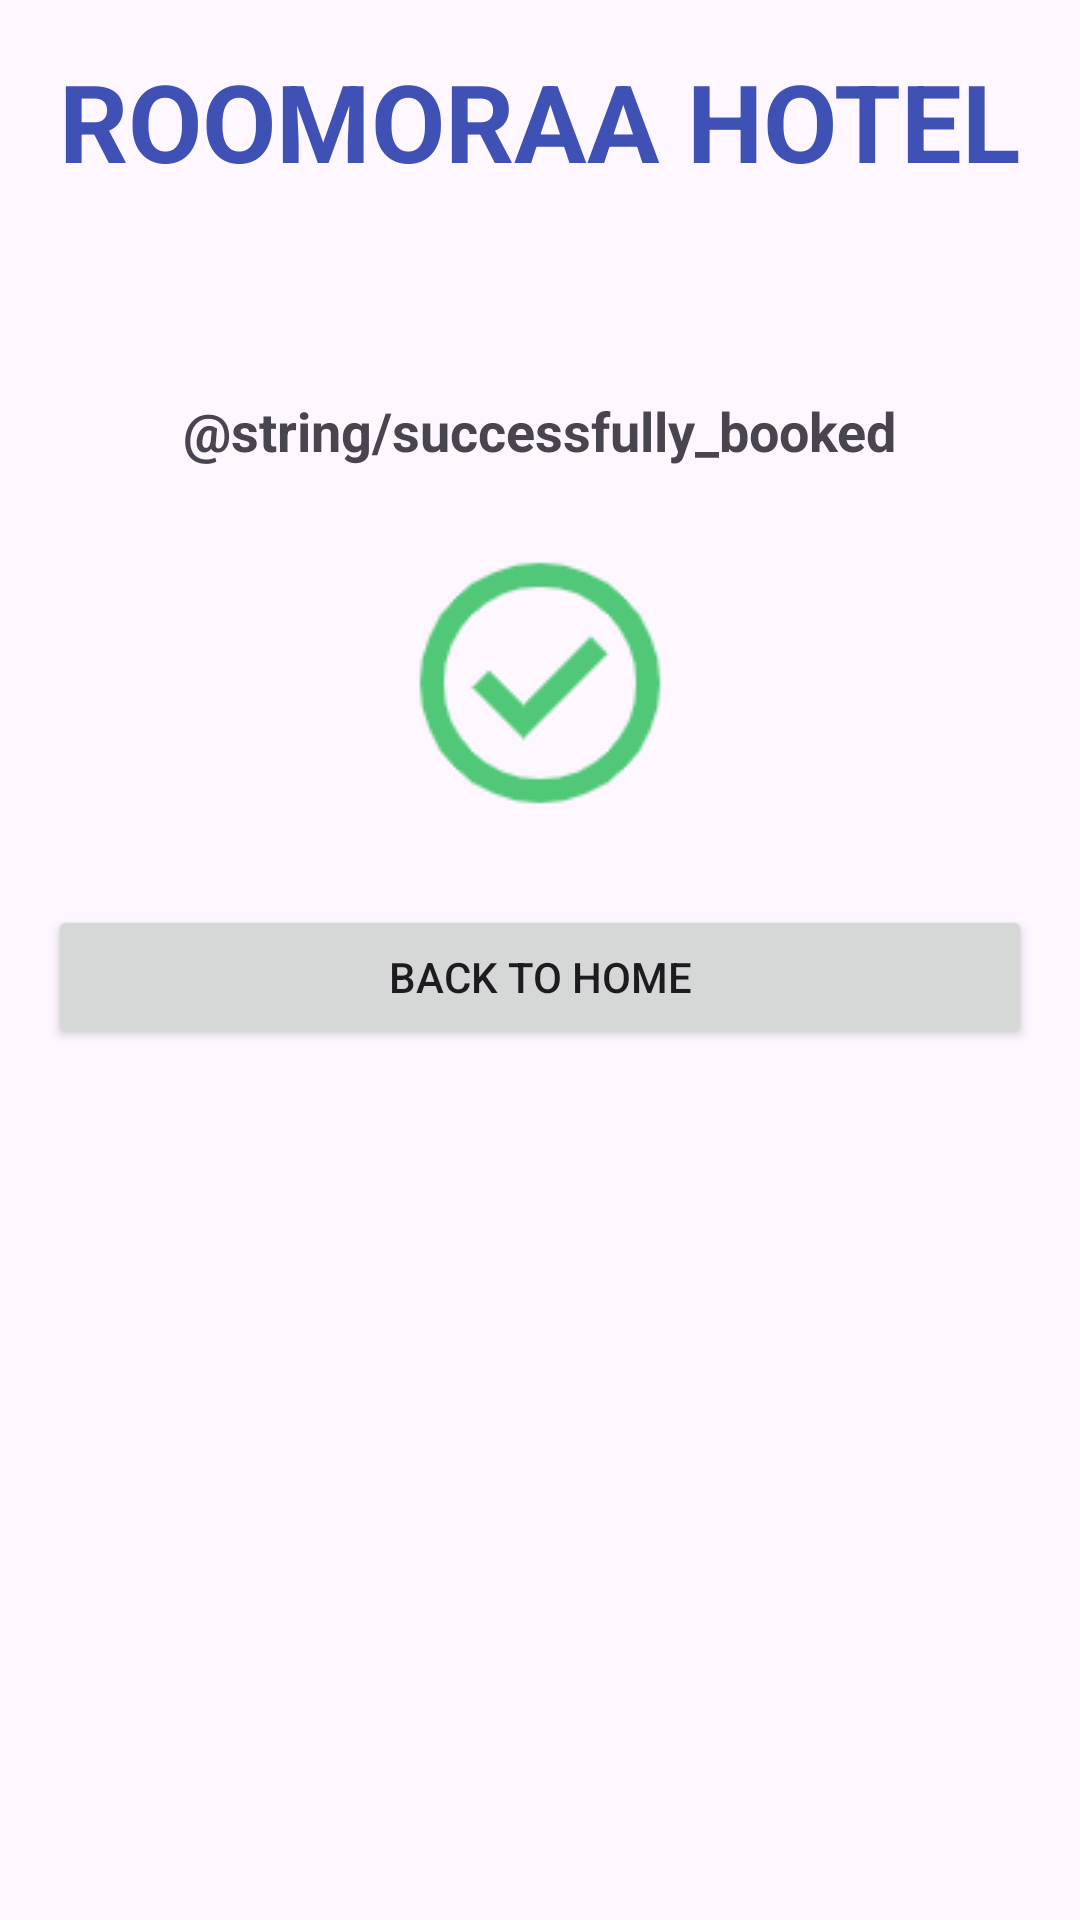

Screen size 1080x1920. Icon name, then its box in pixels as (x1, y1, x2, y2):
check circle eaed: (419, 562, 661, 804)
